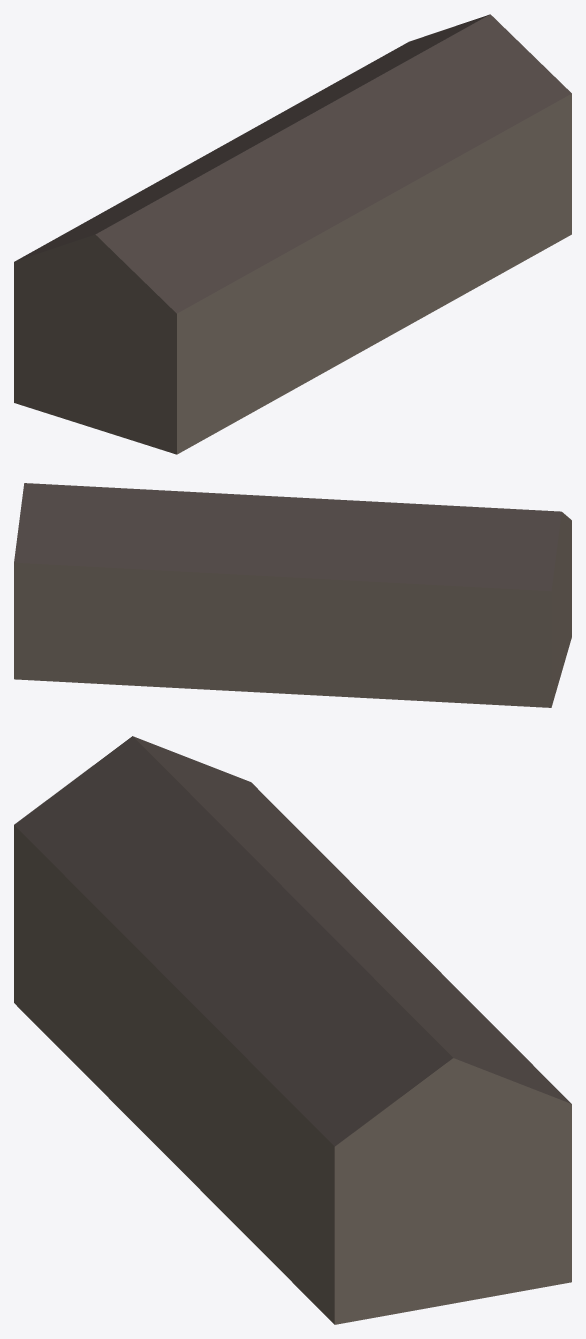
3 views of the same model, one above another, from view 1: azimuth 30°, elevation 25°; view 2: azimuth 150°, elevation 25°; view 3: azimuth 270°, elevation 25° (orthographic). The views are drawn at different scales.
Parts seen in each view (by area): view 1: HP-w859082519; view 2: HP-w859082519; view 3: HP-w859082519.
Boxes of the visible parts, x1,y1,x2,y2 form: HP-w859082519: (14, 14, 571, 454); HP-w859082519: (14, 483, 571, 707); HP-w859082519: (14, 736, 571, 1324).
Size of the model in its own units: 26.33 by 8.27 by 17.03.
